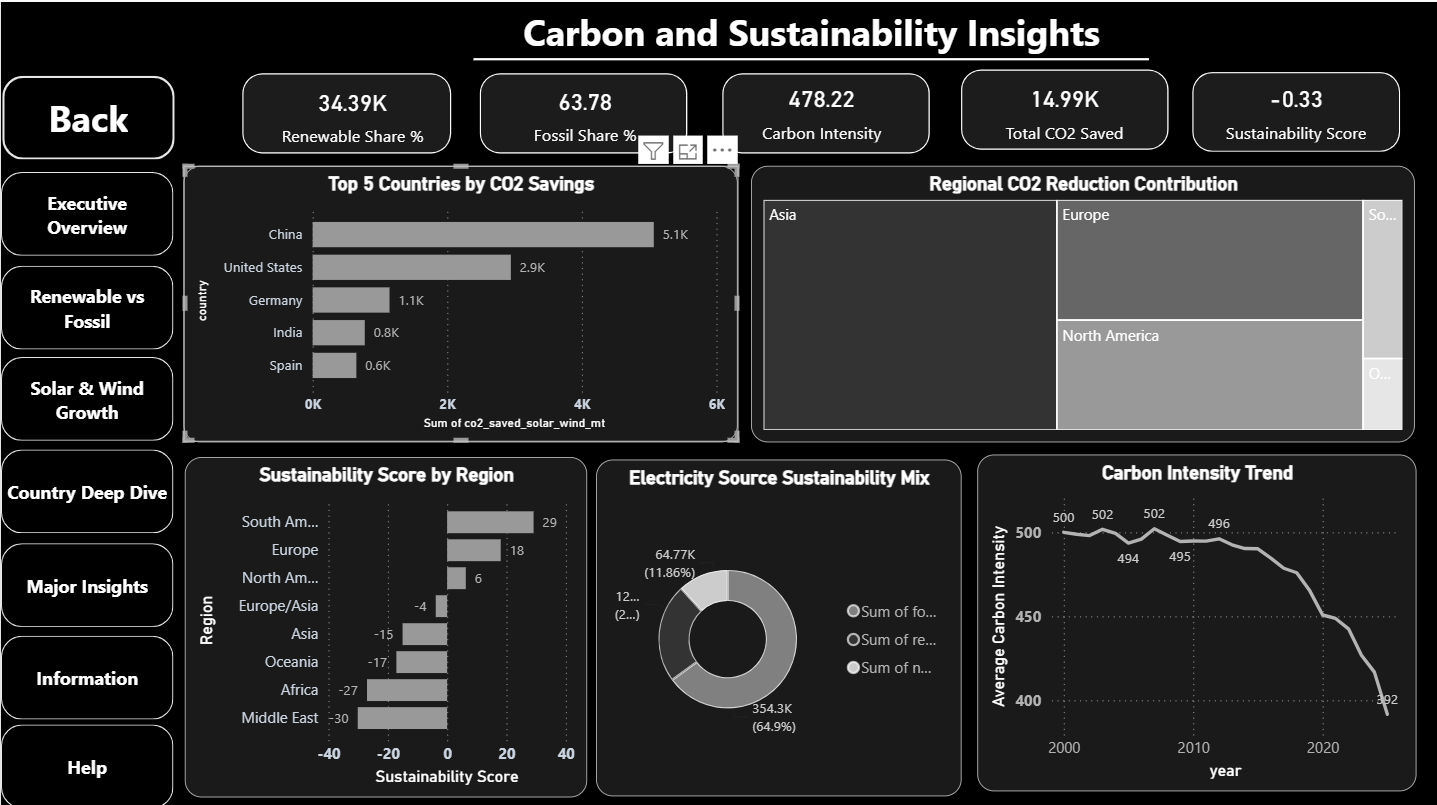

What the dashboard file says about the page in this screenshot:
{"tool":"powerbi","page":{"name":"Carbon & Sustainability Insights","canvas":[1280,720],"ordinal":3},"visuals":[{"type":"textbox","box":[415,0,613.1,53.5],"z":0},{"type":"shape","box":[0,151.5,153.5,74.8],"z":0,"group":"g1"},{"type":"shape","box":[1052,53.1,203,89],"z":1000},{"type":"shape","box":[0.9,65.8,153.5,74.8],"z":1000,"group":"g1"},{"type":"shape","box":[206.3,54.3,203.9,89.3],"z":2000},{"type":"shape","box":[0,234.7,153.5,74.8],"z":2000,"group":"g1"},{"type":"shape","box":[633.4,54.3,202.7,89.3],"z":3000},{"type":"shape","box":[0,316.7,153.5,74.8],"z":3000,"group":"g1"},{"type":"shape","box":[845.7,50.7,202.7,89.3],"z":4000},{"type":"shape","box":[0,398.8,153.5,74.8],"z":4000,"group":"g1"},{"type":"shape","box":[420.8,27.5,601.5,46.3],"z":5000},{"type":"shape","box":[0,482,153.5,74.8],"z":5000,"group":"g1"},{"type":"lineChart","title":"Carbon Intensity Trend","fields":{"Category":["GlobalRenewableEnergy.year"],"Y":["Avg(GlobalRenewableEnergy.carbon_intensity_gco2_kwh)"]},"box":[868.9,403.4,391,300.4],"z":6000},{"type":"shape","box":[0,564.1,153.5,74.8],"z":6000,"group":"g1"},{"type":"donutChart","title":"Electricity Source Sustainability Mix","fields":{"Y":["Sum(GlobalRenewableEnergy.fossil_electricity_twh)","Sum(GlobalRenewableEnergy.renewables_electricity_twh)","Sum(GlobalRenewableEnergy.nuclear_electricity_twh)"]},"box":[530,407.1,325.2,300.4],"z":7000},{"type":"shape","box":[0,643.7,153.5,74.8],"z":7000,"group":"g1"},{"type":"treemap","title":"Regional CO2 Reduction Contribution","fields":{"Group":["GlobalRenewableEnergy.Region"],"Values":["GlobalRenewableEnergy.Total CO2 Saved"]},"box":[668.4,146,591.2,246.1],"z":8000},{"type":"clusteredBarChart","fields":{"Category":["GlobalRenewableEnergy.Region"],"Y":["GlobalRenewableEnergy.Sustainability Score"]},"box":[163.3,404.8,358.1,303.3],"z":9000},{"type":"card","fields":{"Values":["GlobalRenewableEnergy.Renewable Share %"]},"box":[225.6,66.4,174.9,66.4],"z":10000},{"type":"card","fields":{"Values":["GlobalRenewableEnergy.Carbon Intensity"]},"box":[640.6,63.9,182.2,66.4],"z":11000},{"type":"card","fields":{"Values":["GlobalRenewableEnergy.Total CO2 Saved"]},"box":[857.8,63.9,178.6,66.4],"z":12000},{"type":"card","fields":{"Values":["GlobalRenewableEnergy.Sustainability Score"]},"box":[1068.7,63.5,170.1,66.4],"z":13000},{"type":"clusteredBarChart","title":"Top 5 Countries by CO2 Savings","fields":{"Category":["GlobalRenewableEnergy.country"],"Y":["Sum(GlobalRenewableEnergy.co2_saved_solar_wind_mt)","select"]},"box":[162.9,146,493.4,246.1],"z":17000},{"type":"group","id":"g1","title":"menu close4","box":[0,65.8,154.1,652.8],"z":19000},{"type":"shape","box":[417.4,54.3,202.7,89.3],"z":21000},{"type":"card","fields":{"Values":["GlobalRenewableEnergy.Fossil Share %"]},"box":[433.1,65.1,174.9,66.4],"z":22000}]}

Visuals, with their boxes in screenshot pixels (x1, y1, x2, y2), scaled from the page's 1280x720 canvas onto the 1437x805 screenshot:
textbox: <bbox>466, 0, 1154, 60</bbox>
shape: <bbox>0, 169, 172, 253</bbox>
shape: <bbox>1181, 59, 1409, 159</bbox>
shape: <bbox>1, 74, 173, 157</bbox>
shape: <bbox>232, 61, 461, 161</bbox>
shape: <bbox>0, 262, 172, 346</bbox>
shape: <bbox>711, 61, 939, 161</bbox>
shape: <bbox>0, 354, 172, 438</bbox>
shape: <bbox>949, 57, 1177, 157</bbox>
shape: <bbox>0, 446, 172, 530</bbox>
shape: <bbox>472, 31, 1148, 83</bbox>
shape: <bbox>0, 539, 172, 623</bbox>
"Carbon Intensity Trend" lineChart: <bbox>975, 451, 1414, 787</bbox>
shape: <bbox>0, 631, 172, 714</bbox>
"Electricity Source Sustainability Mix" donutChart: <bbox>595, 455, 960, 791</bbox>
shape: <bbox>0, 720, 172, 803</bbox>
"Regional CO2 Reduction Contribution" treemap: <bbox>750, 163, 1414, 438</bbox>
clusteredBarChart - GlobalRenewableEnergy.Region x GlobalRenewableEnergy.Sustainability Score: <bbox>183, 453, 585, 792</bbox>
card - GlobalRenewableEnergy.Renewable Share %: <bbox>253, 74, 450, 148</bbox>
card - GlobalRenewableEnergy.Carbon Intensity: <bbox>719, 71, 924, 146</bbox>
card - GlobalRenewableEnergy.Total CO2 Saved: <bbox>963, 71, 1164, 146</bbox>
card - GlobalRenewableEnergy.Sustainability Score: <bbox>1200, 71, 1391, 145</bbox>
"Top 5 Countries by CO2 Savings" clusteredBarChart: <bbox>183, 163, 737, 438</bbox>
"menu close4" group: <bbox>0, 74, 173, 803</bbox>
shape: <bbox>469, 61, 696, 161</bbox>
card - GlobalRenewableEnergy.Fossil Share %: <bbox>486, 73, 683, 147</bbox>
